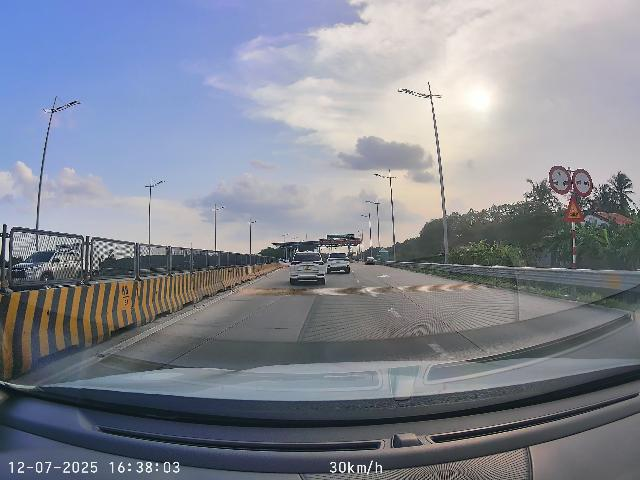125-cam-vuot: (572, 168, 593, 197)
245-di-cham: (564, 194, 586, 223)
